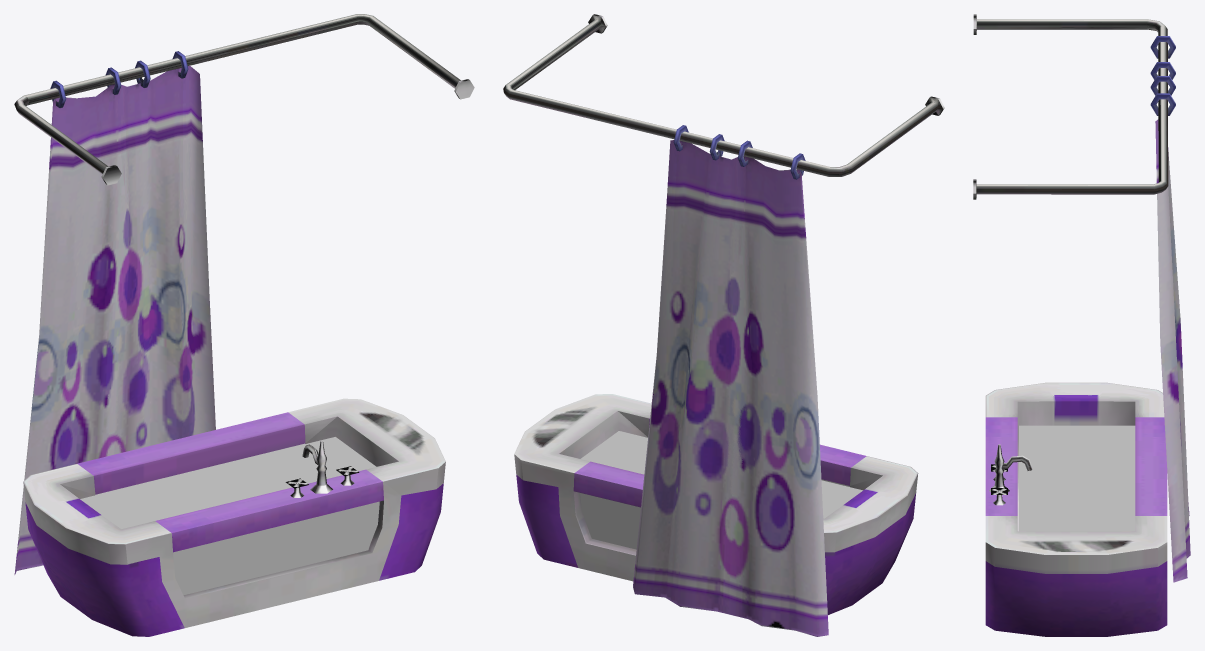
The model's file is furni_0200524_03.FBX.
3 renders of one model, left to right at view 1: azimuth 30°, elevation 25°; view 2: azimuth 150°, elevation 25°; view 3: azimuth 270°, elevation 25°, orthographic. The views are drawn at different scales.
Parts seen in each view (by area): view 1: furni_0200524_03; view 2: furni_0200524_03; view 3: furni_0200524_03.
Boxes of the visible parts, bbox=[...] form: furni_0200524_03: bbox=[14, 14, 474, 636]; furni_0200524_03: bbox=[503, 14, 944, 636]; furni_0200524_03: bbox=[973, 14, 1190, 636].
Bounding box in the file's own units: 161 × 202 × 85.19.
